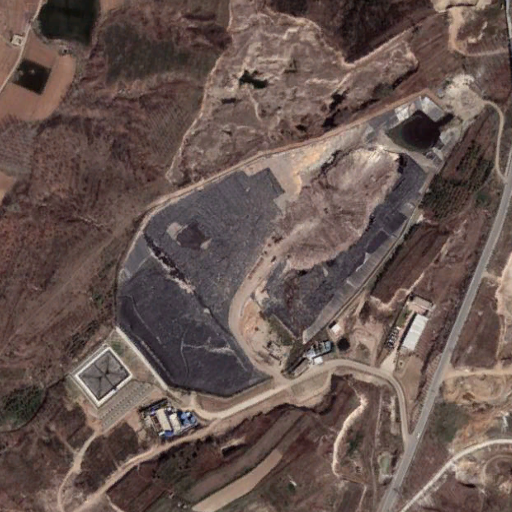lf: (120, 94, 456, 400)
